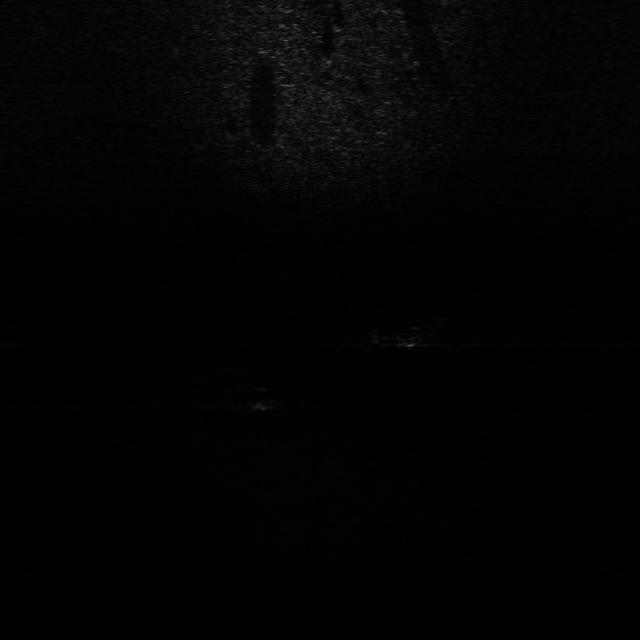ball: (231, 384, 287, 422)
human body: (350, 311, 450, 349)
